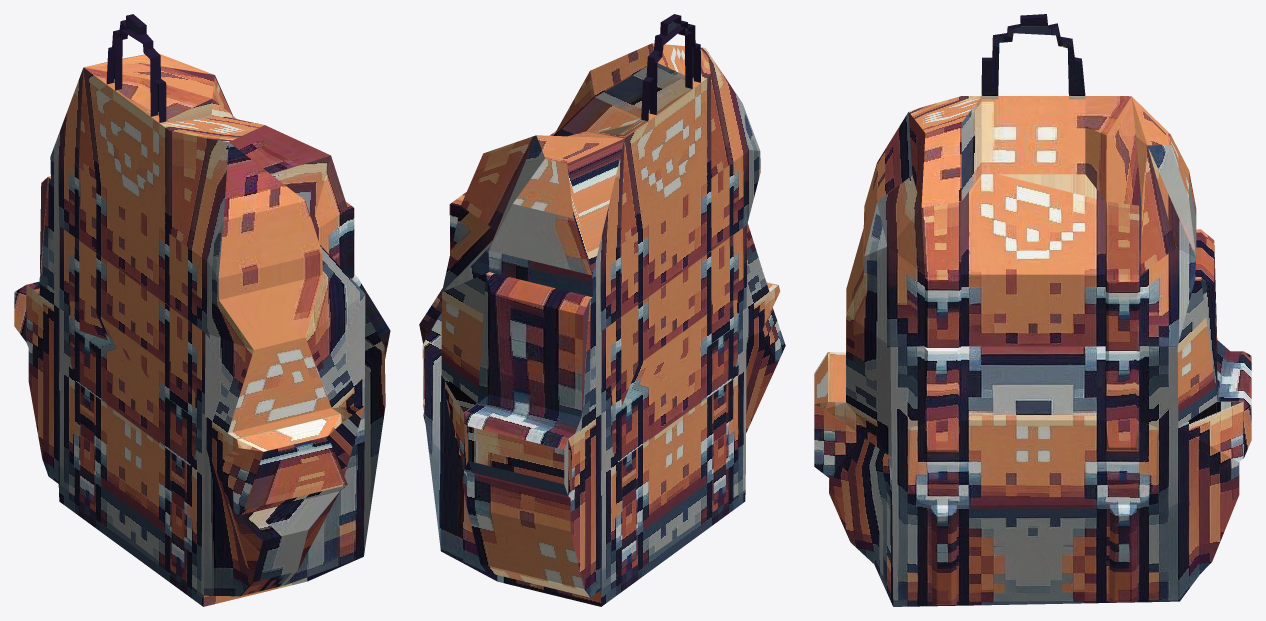
Rendered from Backpack1.glb.
3 views of the same model, side by side, from view 1: azimuth 30°, elevation 25°; view 2: azimuth 150°, elevation 25°; view 3: azimuth 270°, elevation 25° (orthographic).
Visible parts, largest first — view 1: OIG1 (15); view 2: OIG1 (15); view 3: OIG1 (15).
Boxes of the visible parts, x1,y1,x2,y2 form: OIG1 (15): (14,14,390,606); OIG1 (15): (419,14,785,606); OIG1 (15): (814,14,1251,606).
Size of the model in its own units: 0.2582 by 0.6278 by 0.4719.
1 material, 1 textured.
